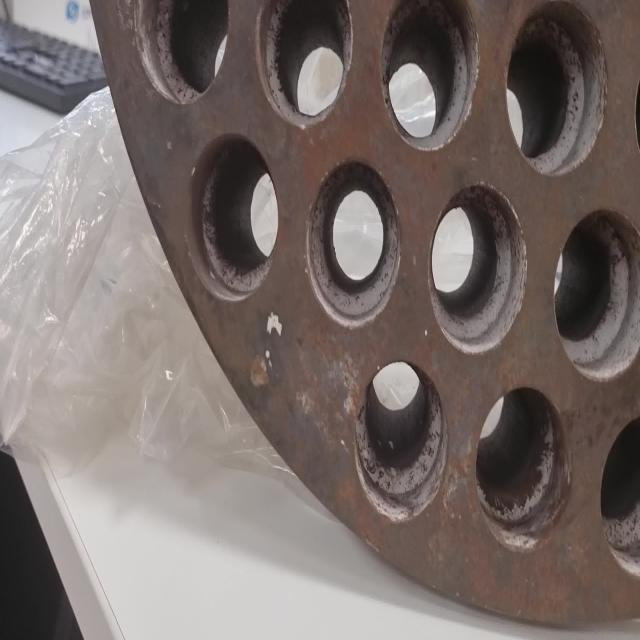Hole: (505, 0, 607, 177), (428, 181, 526, 355), (306, 156, 402, 328), (474, 385, 572, 553), (552, 206, 640, 383), (190, 131, 280, 301), (354, 359, 447, 523), (380, 1, 480, 152), (256, 0, 354, 130), (132, 0, 230, 106)
